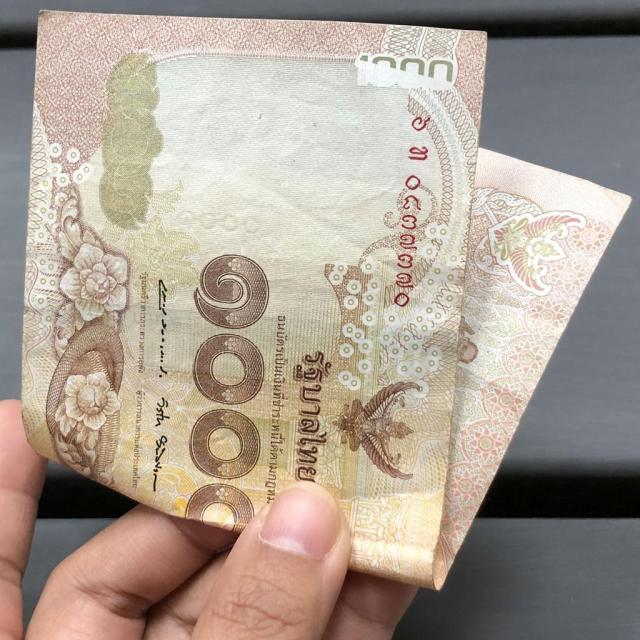THAI1000: (22, 12, 629, 589)
